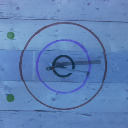Axe Tip: (52, 65, 67, 68)
